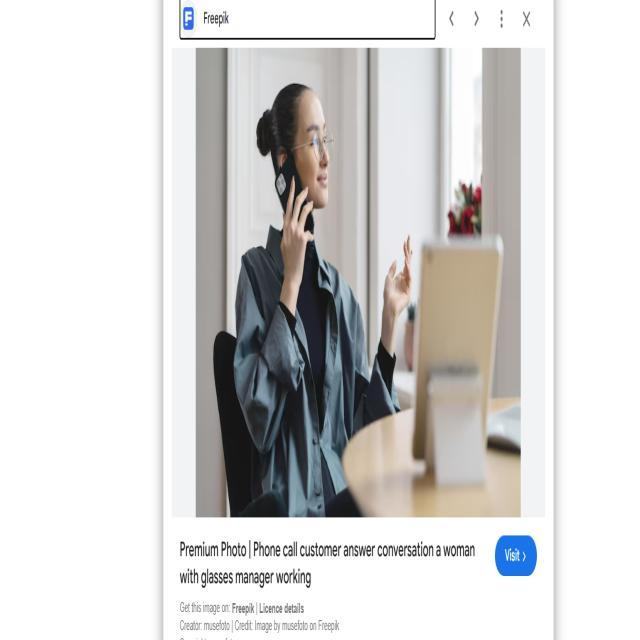face_no_mask: (295, 95, 333, 211)
